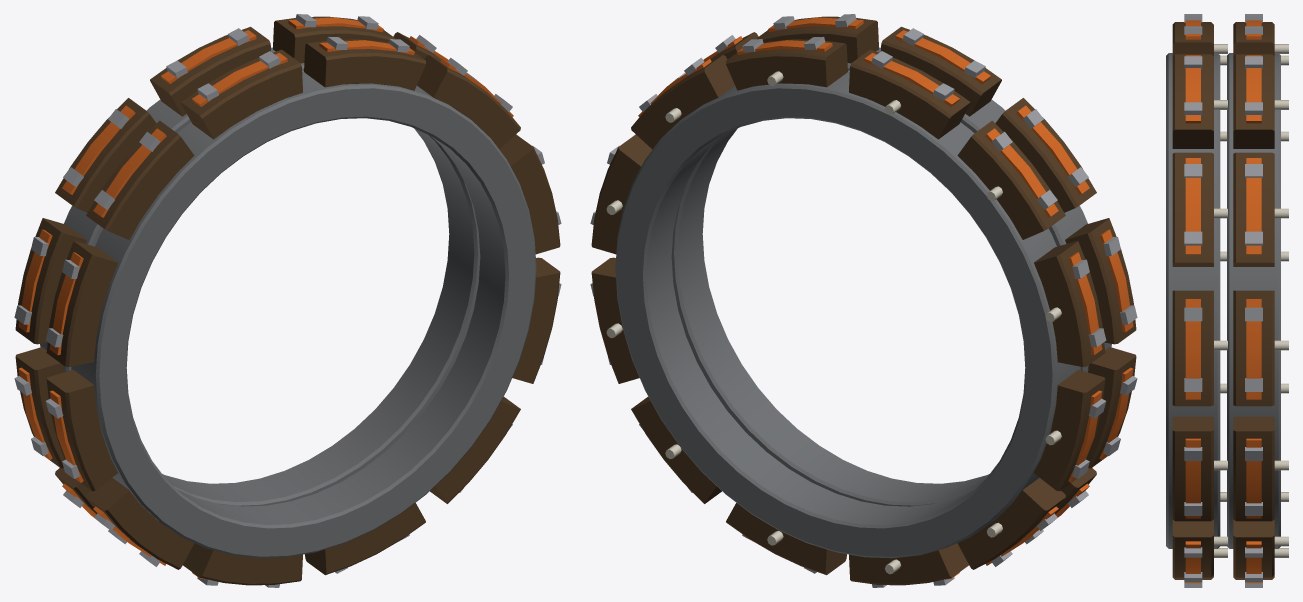
Rendered from u70_coil_ring.obj.
3 views of the same model, side by side, from view 1: azimuth 30°, elevation 25°; view 2: azimuth 150°, elevation 25°; view 3: azimuth 270°, elevation 25° (orthographic). The views are drawn at different scales.
Parts seen in each view (by area): view 1: u70_coil_ring; view 2: u70_coil_ring; view 3: u70_coil_ring.
Boxes of the visible parts, x1,y1,x2,y2 form: u70_coil_ring: [14, 14, 561, 587]; u70_coil_ring: [590, 14, 1137, 587]; u70_coil_ring: [1166, 14, 1288, 587].
Size of the model in its own units: 4.41 by 4.41 by 0.95.
